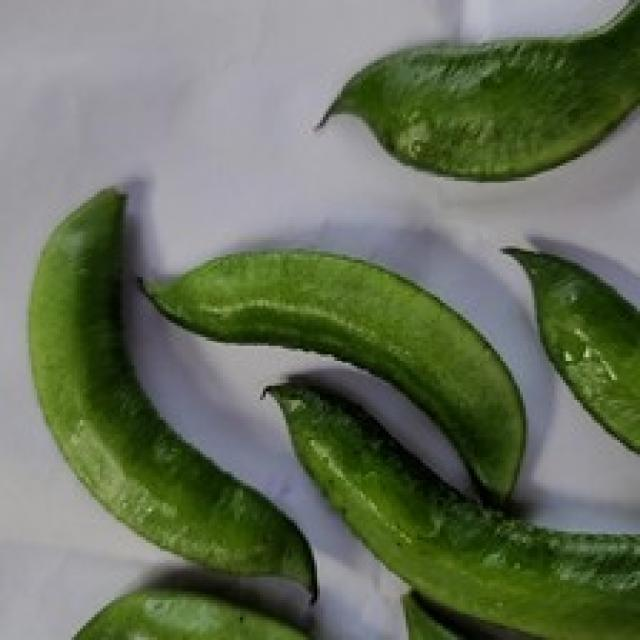Bean: (26, 183, 317, 603), (134, 245, 526, 506), (260, 374, 637, 637), (312, 0, 637, 180)
